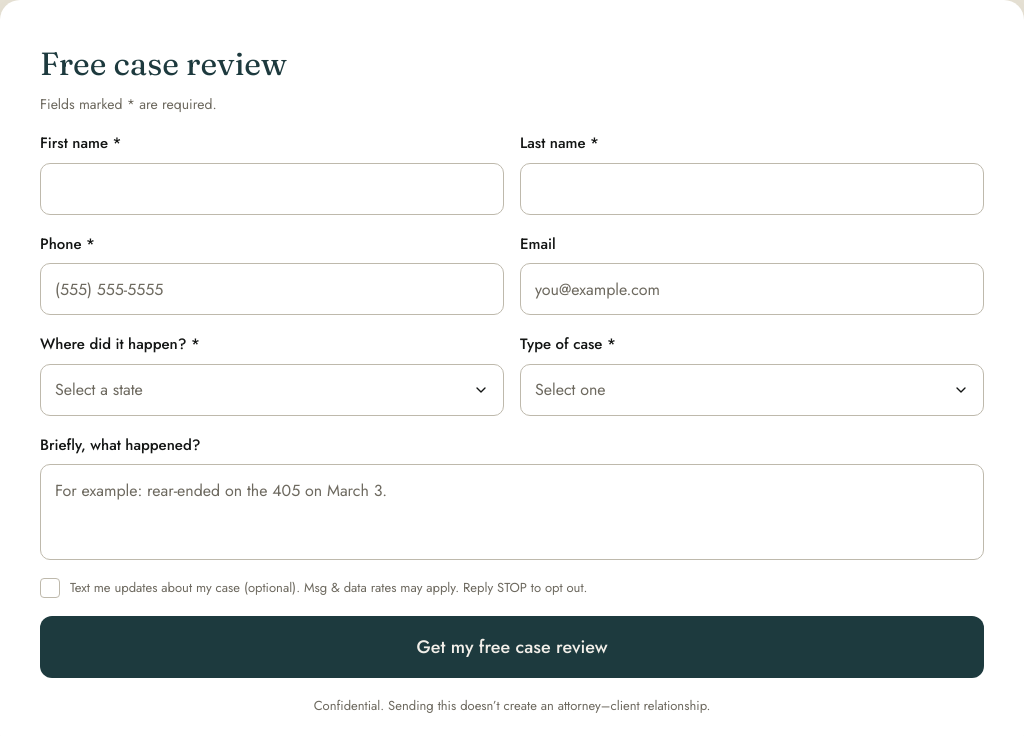
Test: CaseReviewForm › shows the Figma error banner and field copy
Click the button "Get my free case review" at (512, 647), box x1=40 y1=616 x2=984 y2=678
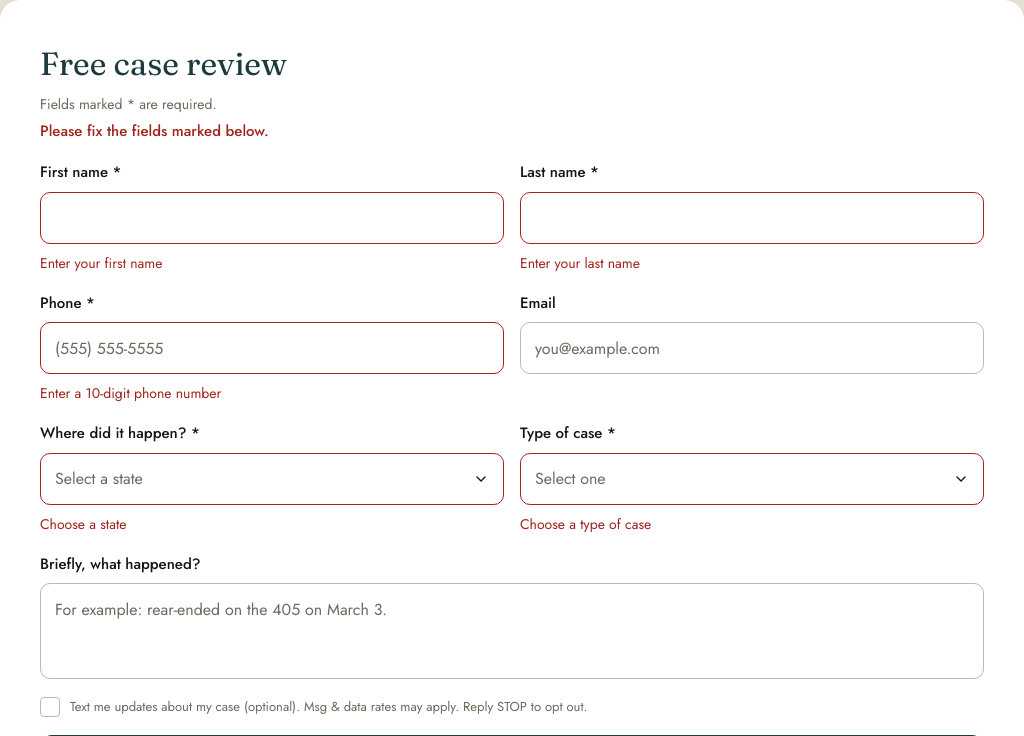
Result: the text "Please fix the fields marked below." is shown at x1=40 y1=120 x2=269 y2=142
Result: the text "Enter your last name" is shown at x1=520 y1=252 x2=640 y2=272
Result: the text "Enter a 10-digit phone number" is shown at x1=40 y1=383 x2=221 y2=403
